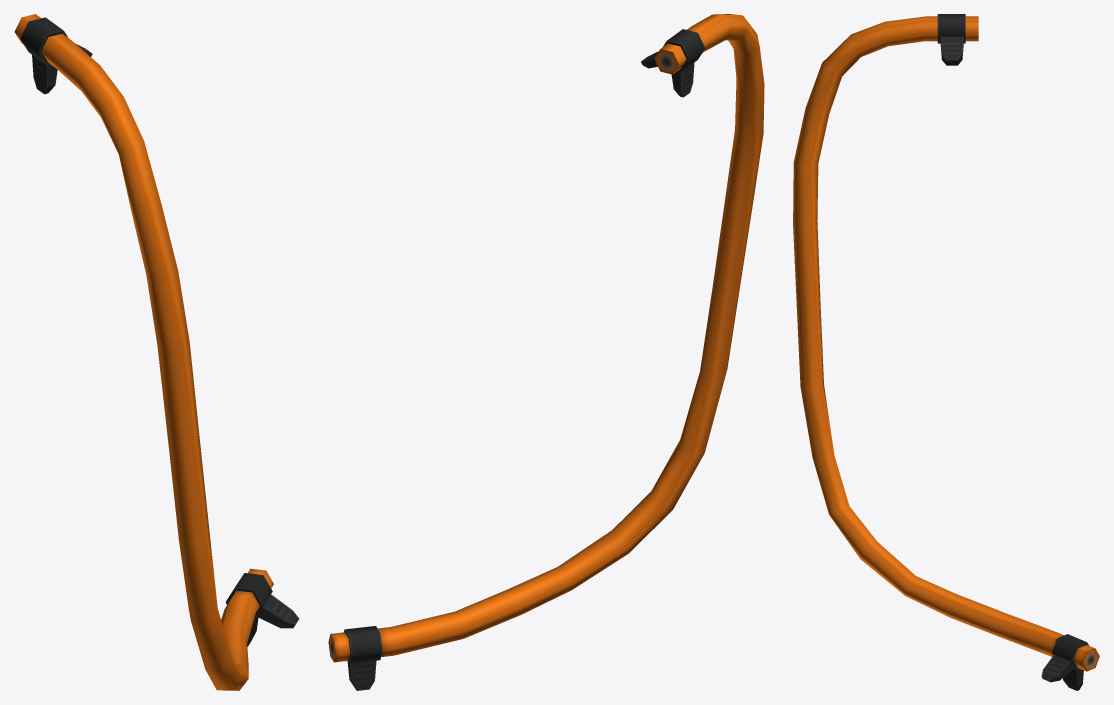
File: jsf_GasRange_08a.fbx
3 views of the same model, side by side, from view 1: azimuth 30°, elevation 25°; view 2: azimuth 150°, elevation 25°; view 3: azimuth 270°, elevation 25° (orthographic). The views are drawn at different scales.
Visible parts, largest first — view 1: GasHose; view 2: GasHose; view 3: GasHose.
Boxes of the visible parts, left/top/right/bottom form: GasHose: left=14, top=14, right=299, bottom=690; GasHose: left=328, top=14, right=764, bottom=690; GasHose: left=793, top=14, right=1099, bottom=690.
Size of the model in its own units: 20.99 by 44.75 by 21.93.
